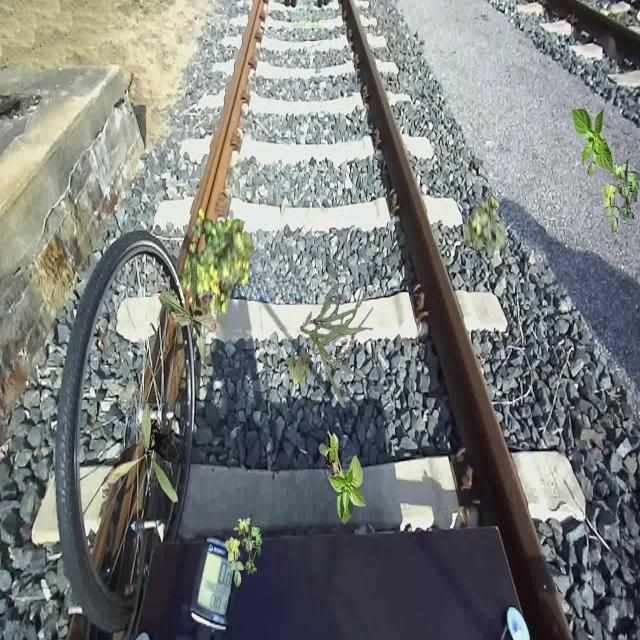Plant: (181, 208, 256, 348), (301, 283, 374, 408), (158, 258, 222, 370), (106, 403, 178, 502), (319, 430, 367, 525), (572, 106, 614, 177), (463, 193, 506, 260), (225, 514, 262, 588), (601, 159, 638, 232), (286, 347, 312, 390)
